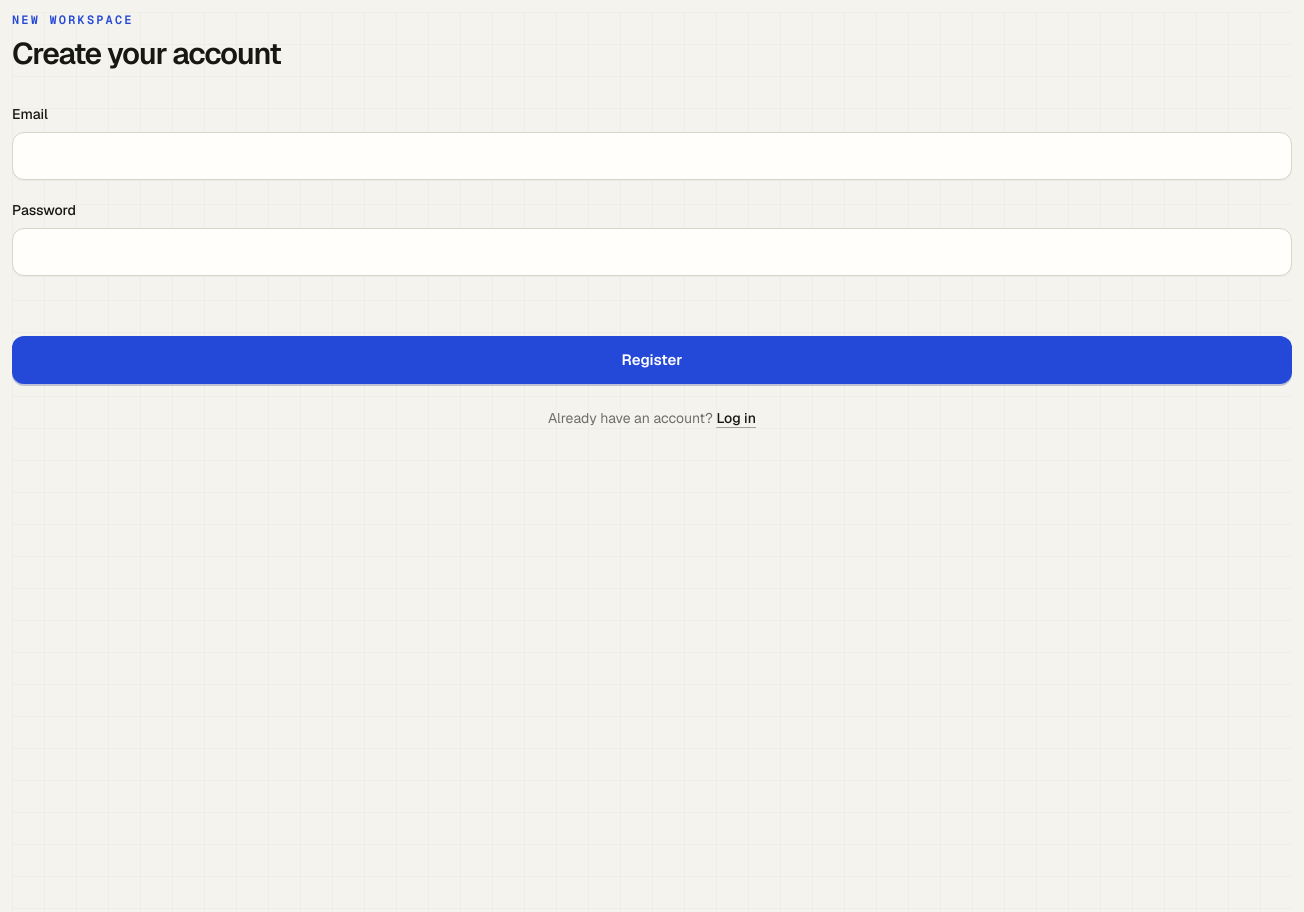
it: AuthForm › announces registration failures and remains usable
Type "user@example.com" into the field labelled "Email" at (652, 156), box top-left (12, 132), bottom-right (1292, 180)
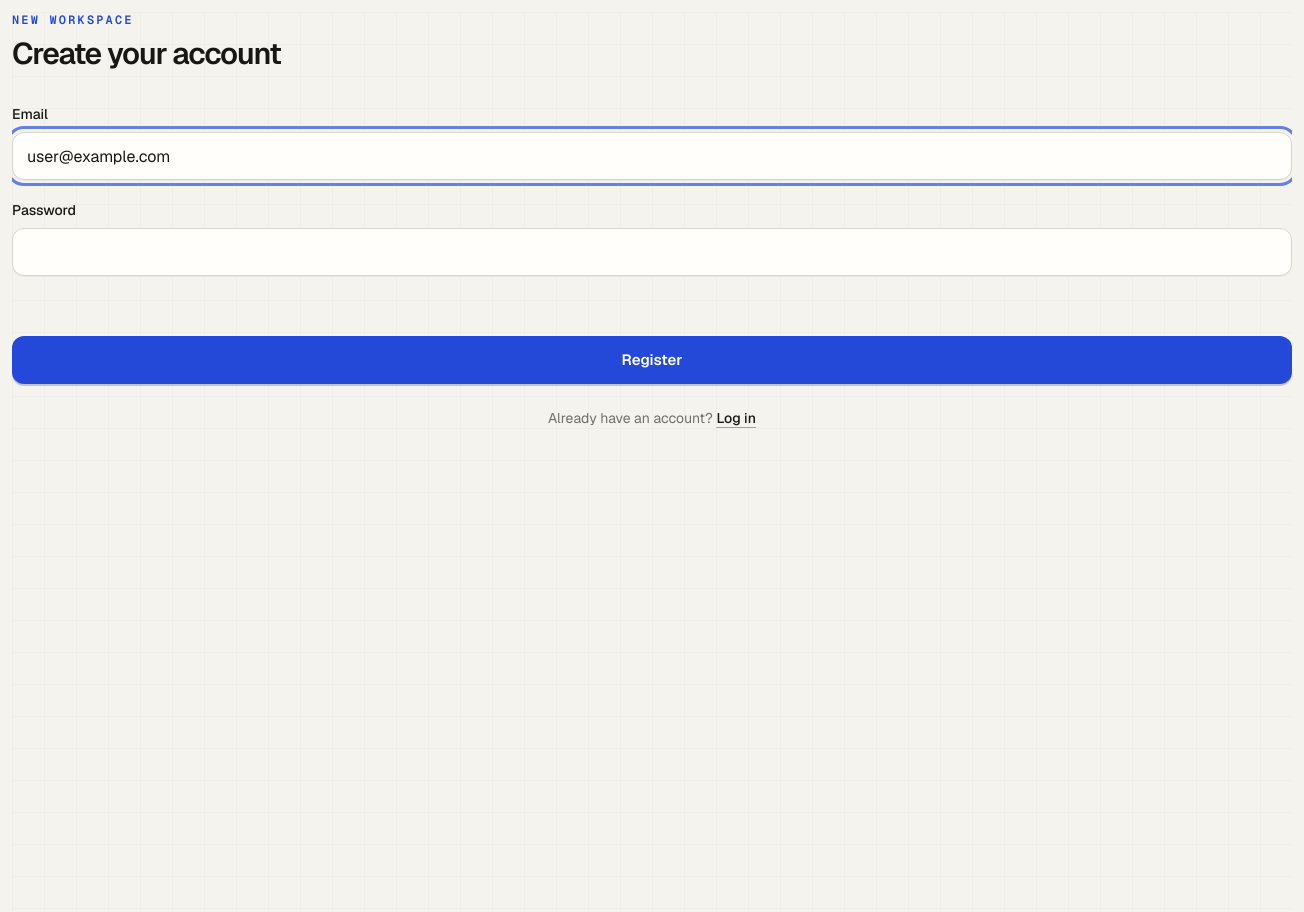
Type "password123" into the password field labelled "Password" at (652, 252), box top-left (12, 228), bottom-right (1292, 276)
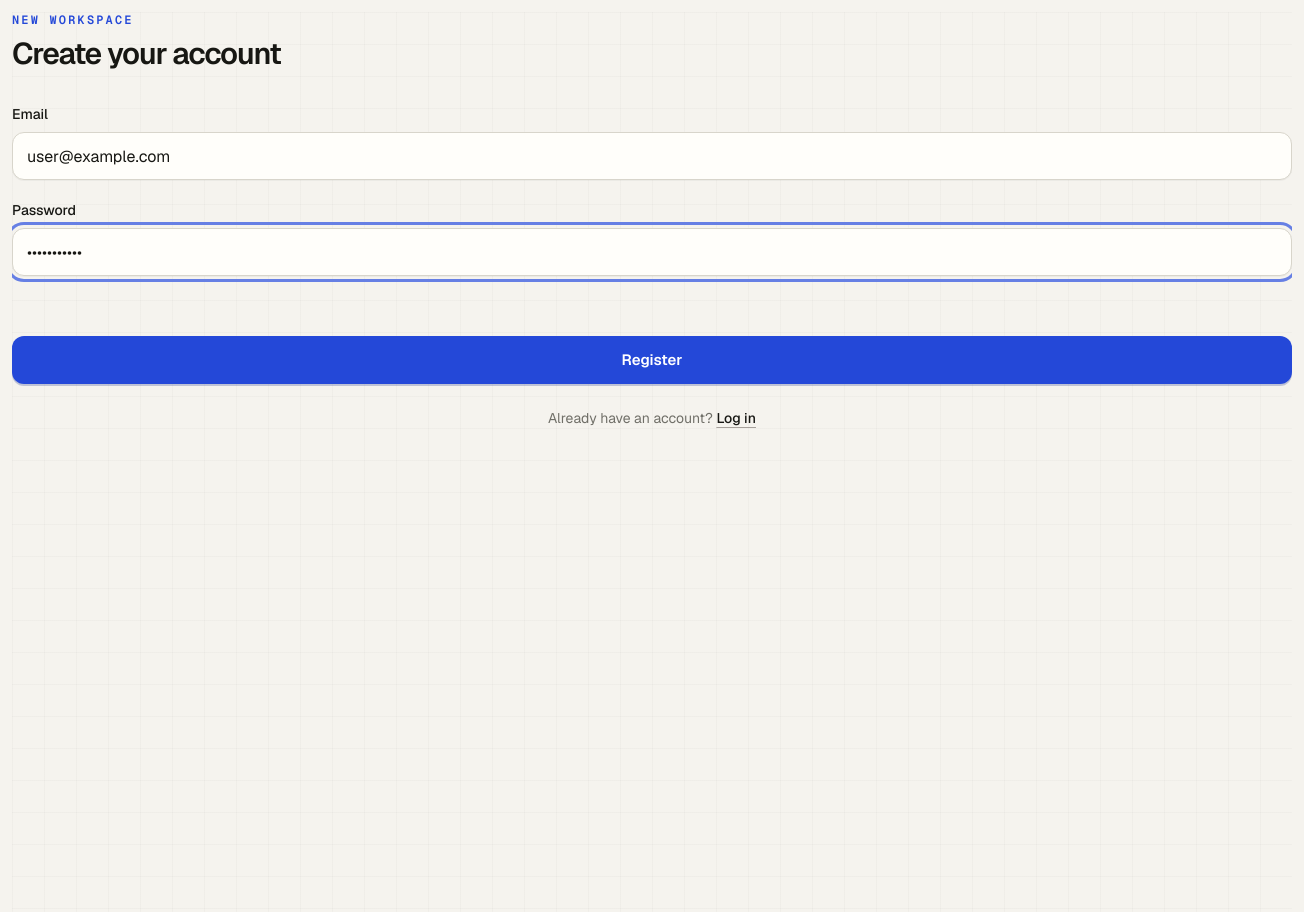
Click the button "Register" at (652, 360), box top-left (12, 336), bottom-right (1292, 384)
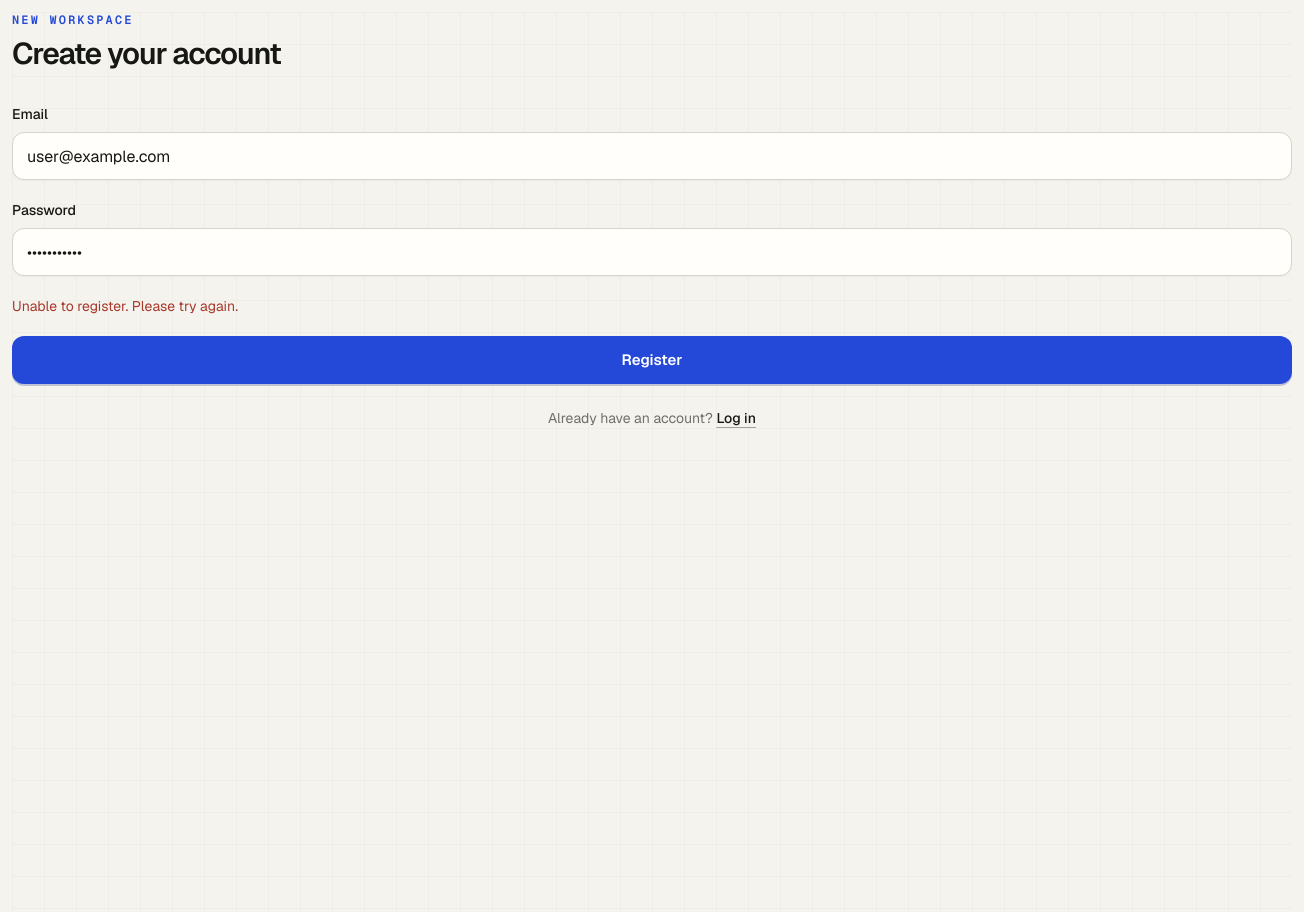
Now the message shows "Unable to register", box top-left (12, 297), bottom-right (238, 315)
